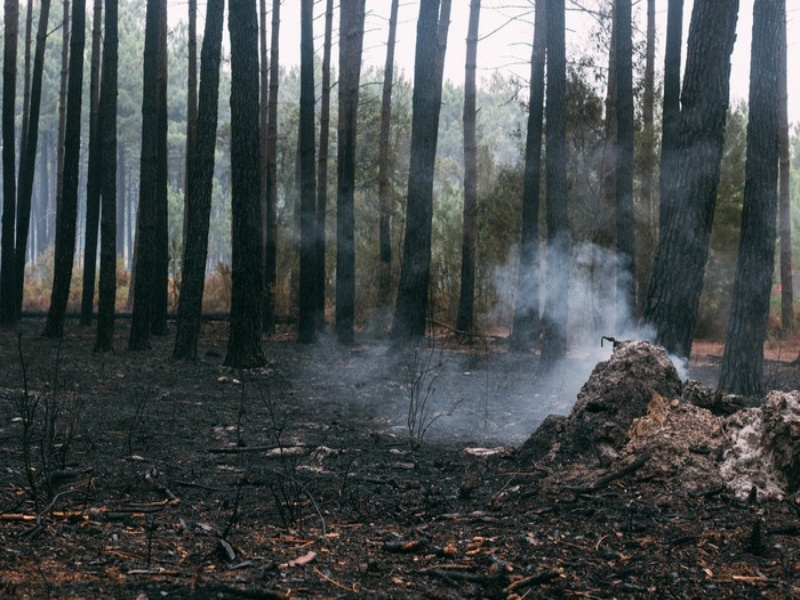smoke: (322, 251, 603, 406)
